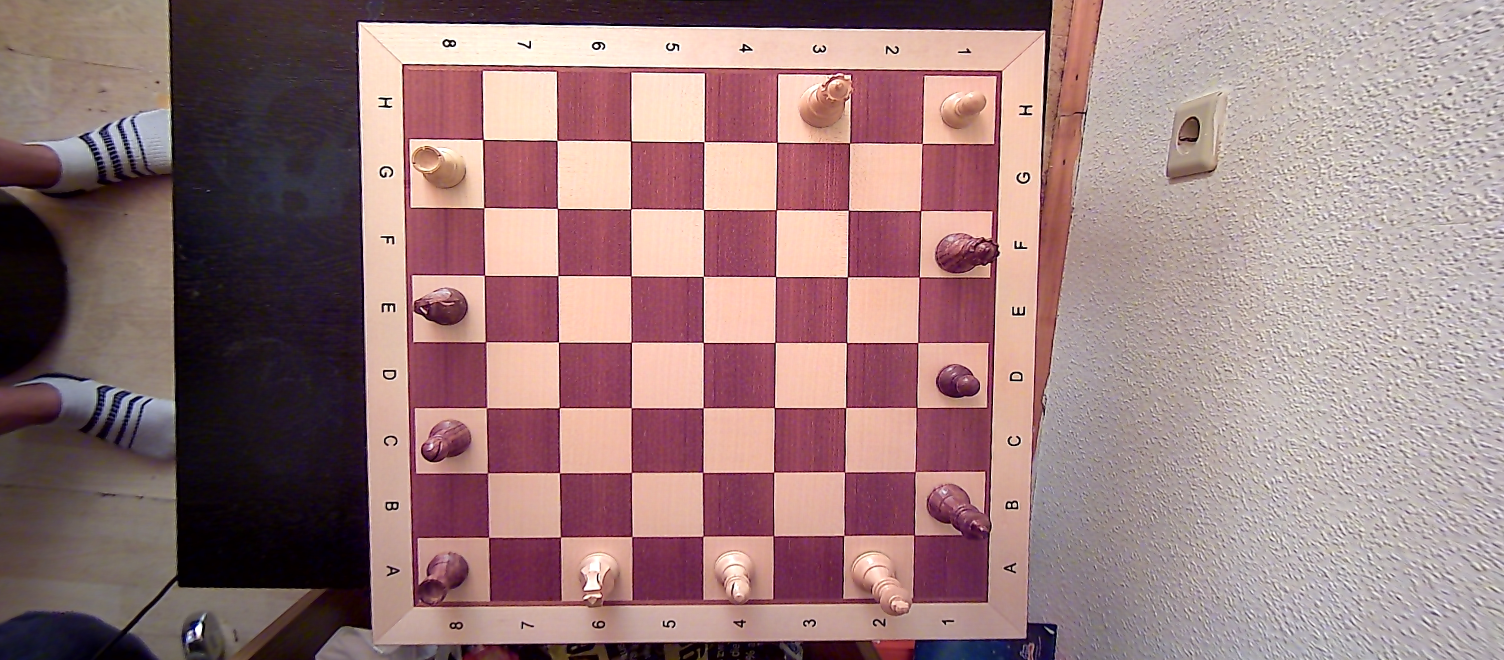black-bishop: (418, 415, 477, 464)
black-king: (924, 478, 997, 544)
black-knight: (409, 284, 472, 331)
black-pawn: (933, 359, 986, 406)
black-queen: (932, 229, 1002, 273)
black-rook: (416, 549, 469, 610)
white-bishop: (711, 547, 758, 606)
white-king: (848, 547, 914, 615)
white-knight: (574, 550, 623, 613)
white-pawn: (937, 87, 989, 130)
white-queen: (799, 74, 856, 130)
white-rook: (409, 142, 470, 195)
